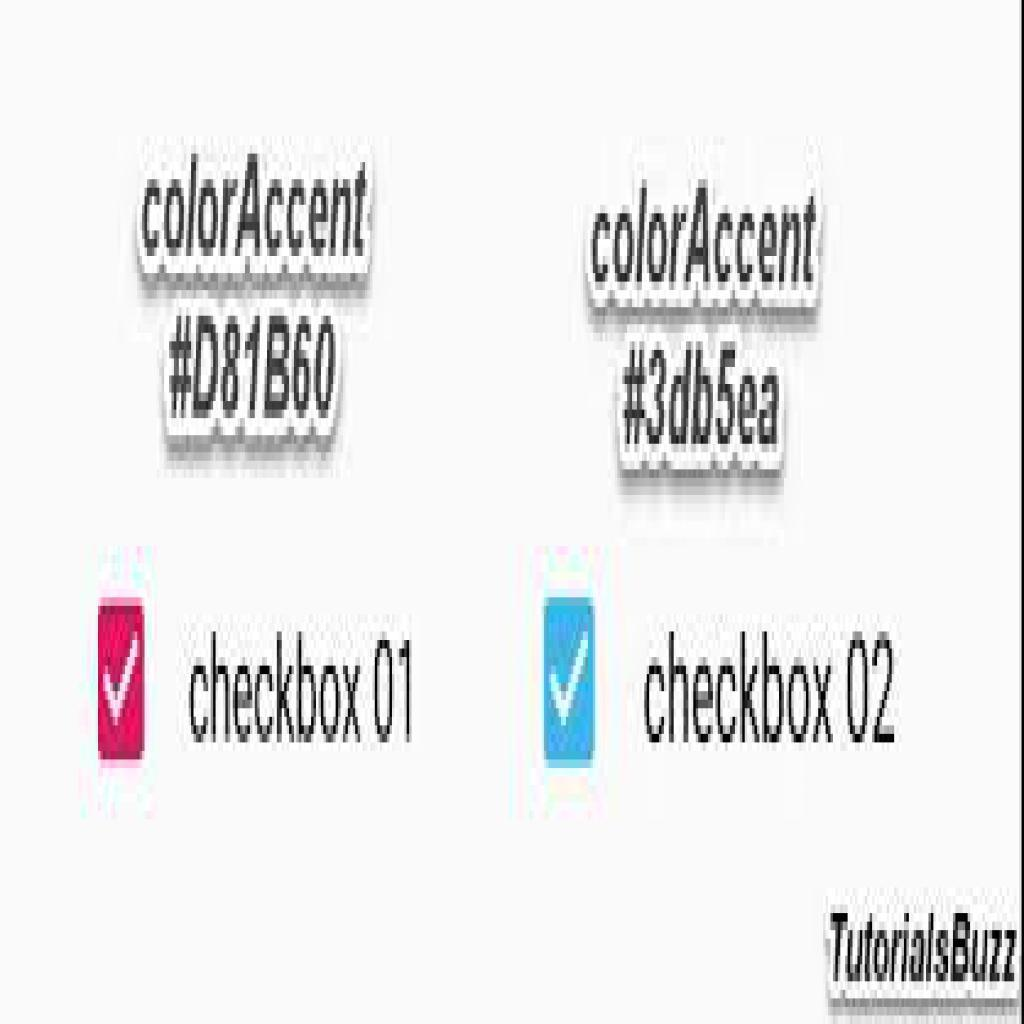checkbox: (543, 596, 596, 757), (97, 603, 150, 760)
